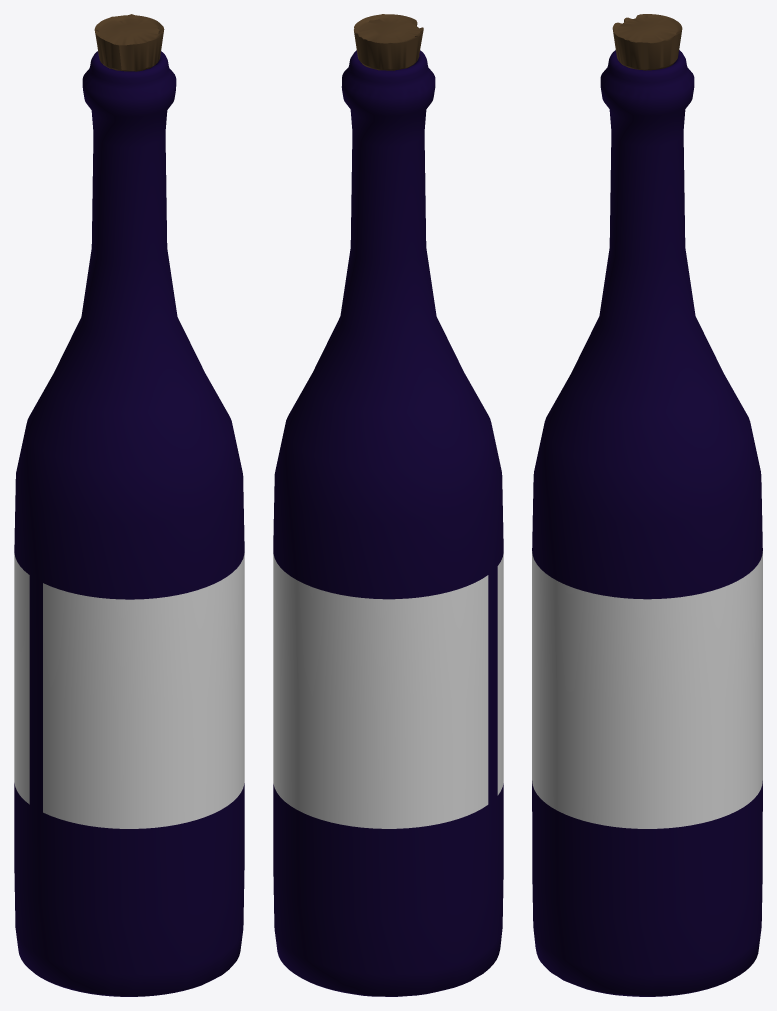
Rendered from wine.fbx.
The picture shows the model from 3 angles, left to right: view 1: azimuth 30°, elevation 25°; view 2: azimuth 150°, elevation 25°; view 3: azimuth 270°, elevation 25°; orthographic projection.
Visible parts, largest first — view 1: bottle, cork; view 2: bottle, cork; view 3: bottle, cork.
Part boxes in pixels (box(x1,y1,x2,y2)): bottle: box(14, 51, 244, 996); cork: box(94, 14, 164, 71); bottle: box(273, 50, 503, 996); cork: box(354, 14, 423, 70); bottle: box(532, 50, 762, 996); cork: box(612, 14, 682, 70).
Size of the model in its own units: 67.77 by 299 by 67.77.
